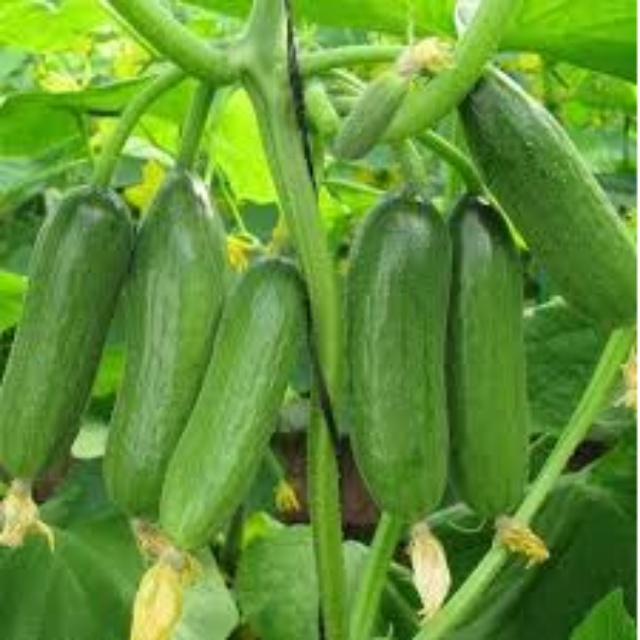dua_leo: (3, 184, 138, 499), (161, 260, 309, 547), (334, 188, 461, 520), (445, 192, 534, 532)
